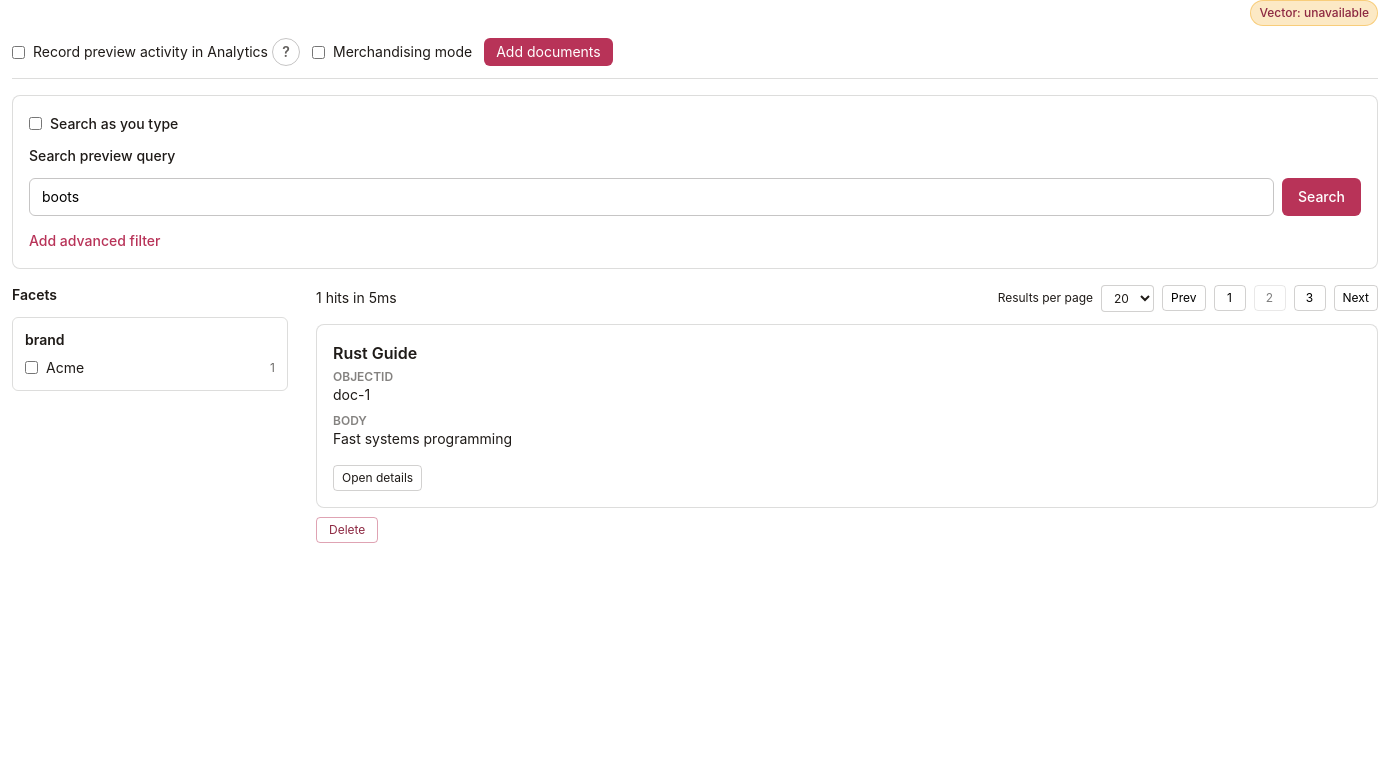
InstantSearch › resyncs unsubmitted draft text to the committed query for non-query searches
Replace the text in the search field labelled "Search preview query" with "draft filter query": [652, 196] box top-left (29, 178), bottom-right (1274, 216)
Click the button "Add advanced filter": [95, 240] box top-left (29, 230), bottom-right (160, 250)
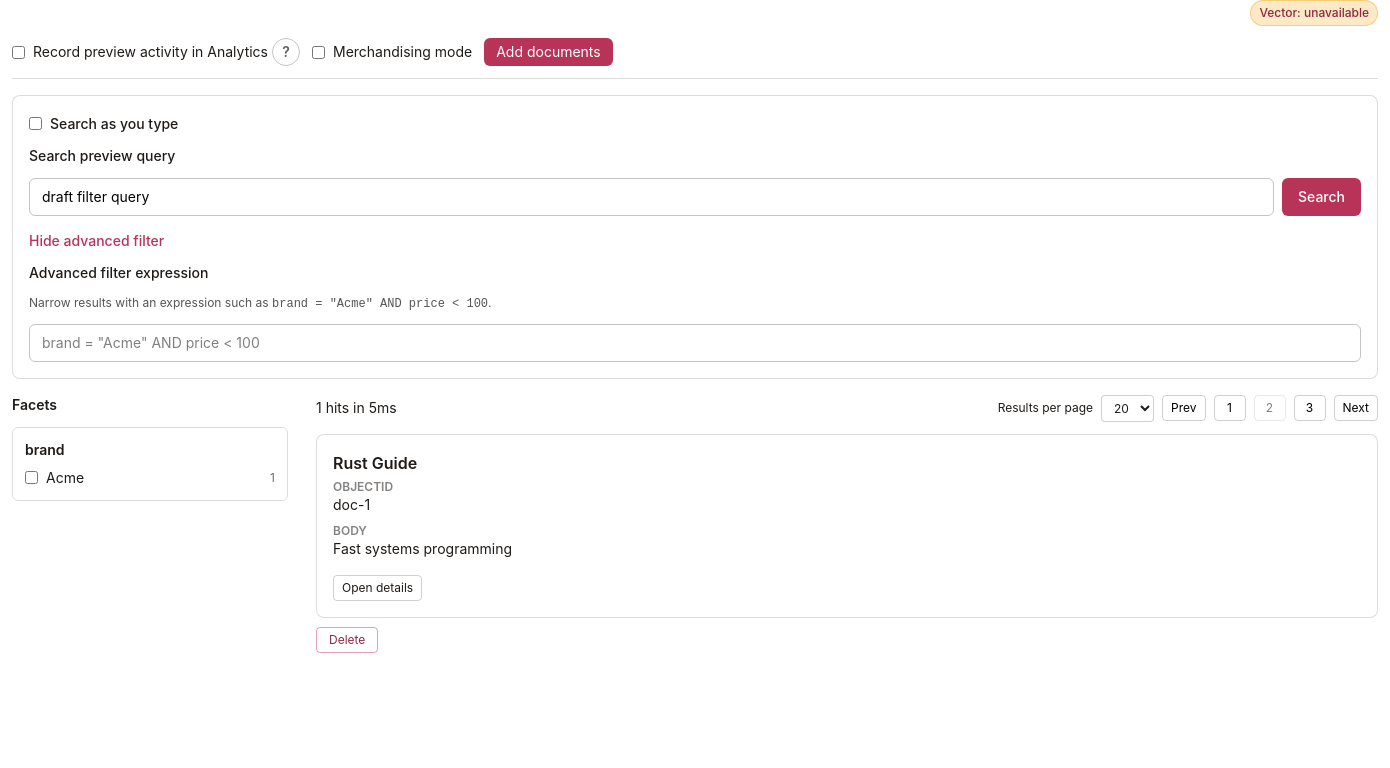
In the field labelled "Advanced filter expression": [695, 342] box top-left (29, 324), bottom-right (1361, 362), type "brand = \"Acme\""
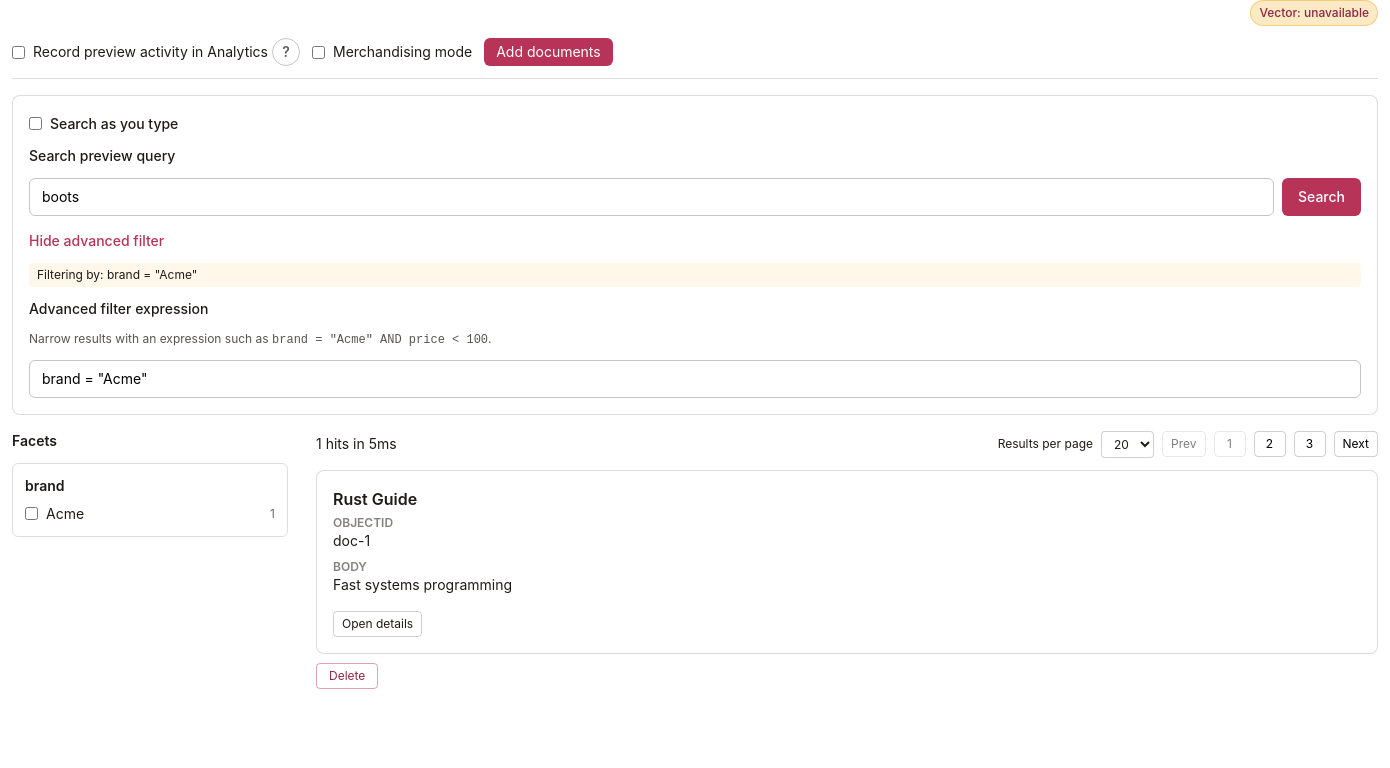
Expected: the search field labelled "Search preview query" holds "boots"
Replace the text in the search field labelled "Search preview query" with "draft facet query": [652, 196] box top-left (29, 178), bottom-right (1274, 216)
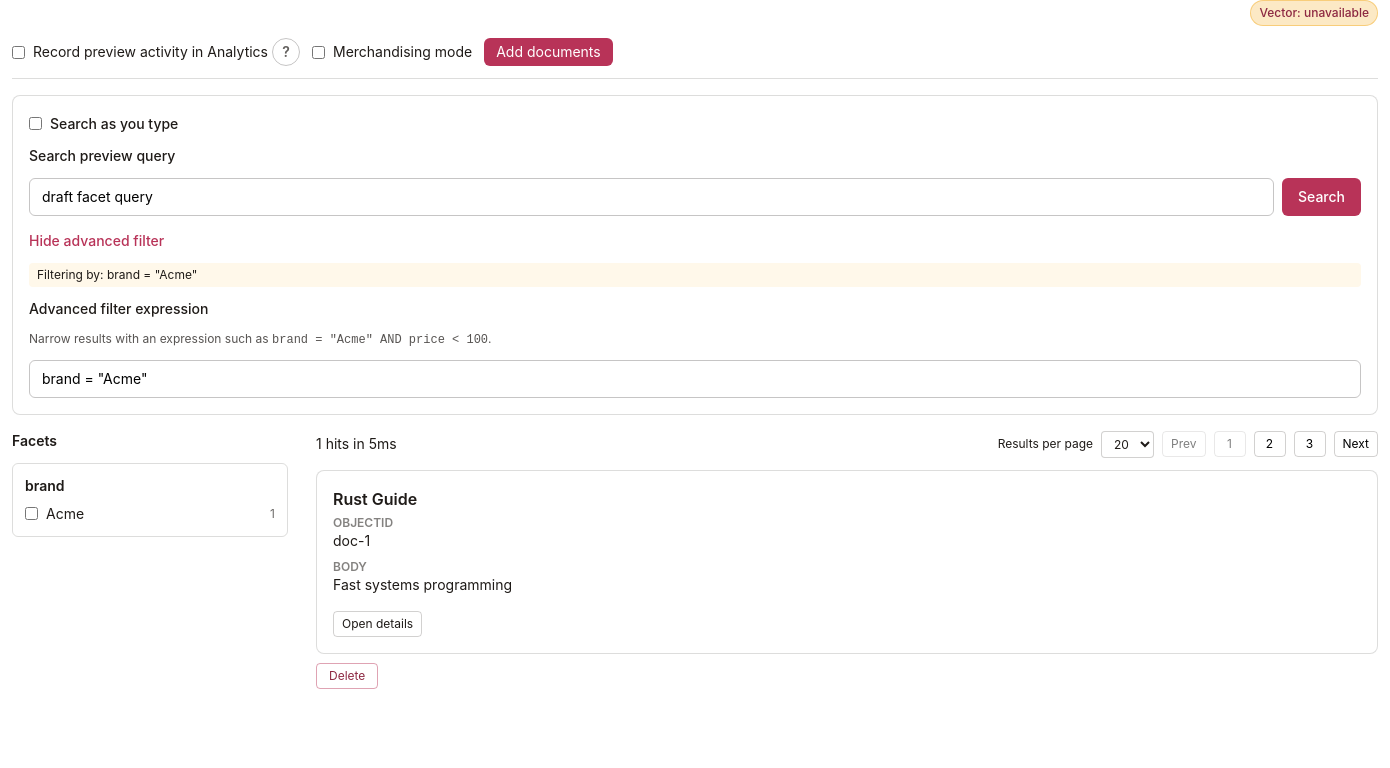
Click the checkbox named "brand:Acme": [32, 514] box top-left (25, 507), bottom-right (38, 520)
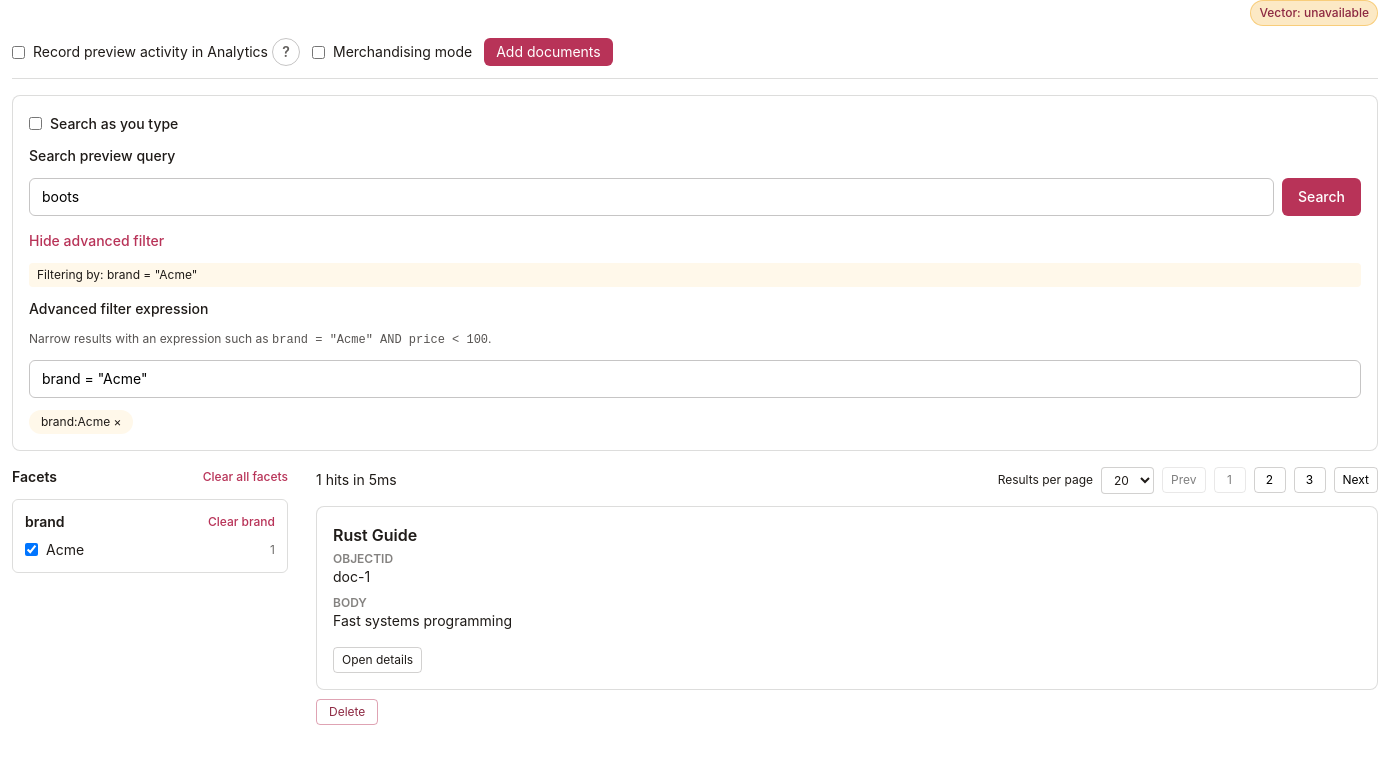
Expected: the search field labelled "Search preview query" holds "boots"
Replace the text in the search field labelled "Search preview query" with "draft page query": [652, 196] box top-left (29, 178), bottom-right (1274, 216)
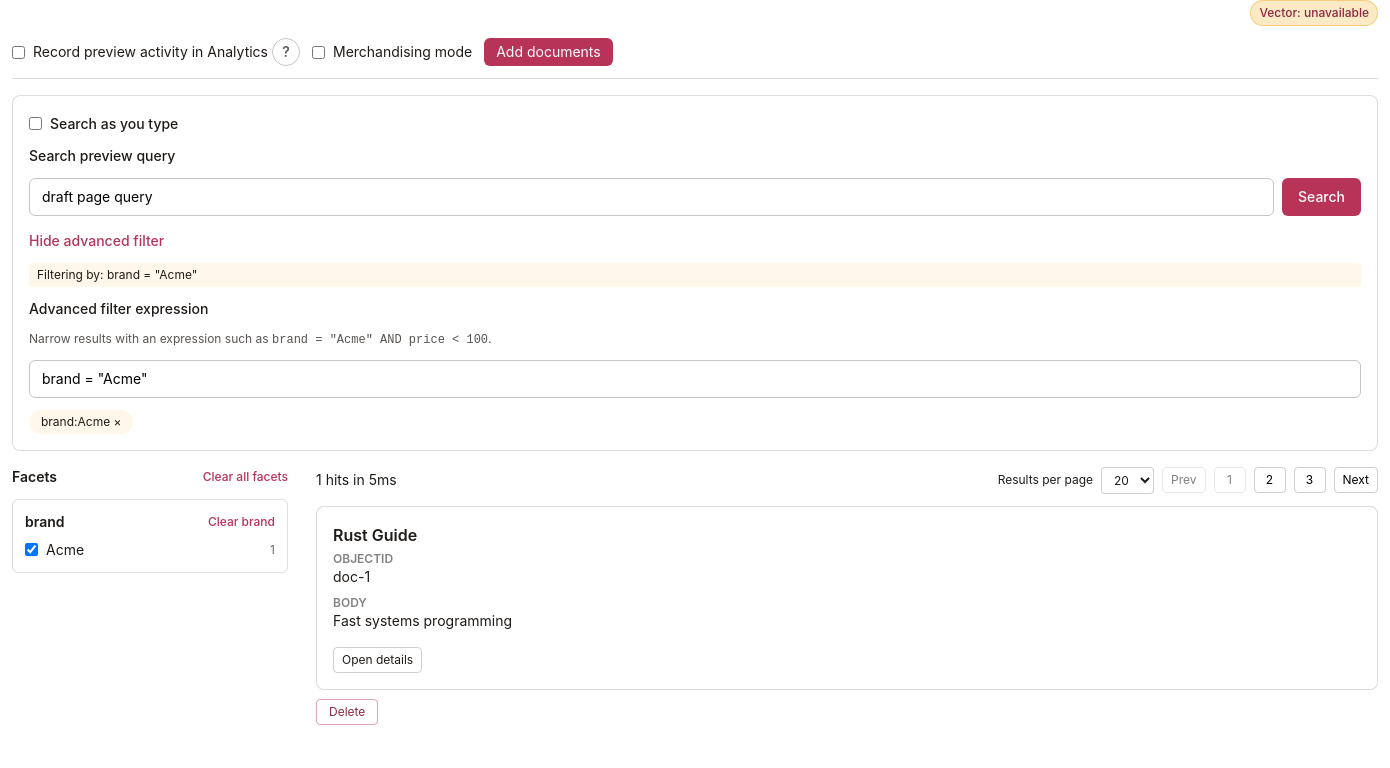
Click the button named "Page 2": [1270, 480] box top-left (1254, 467), bottom-right (1286, 493)
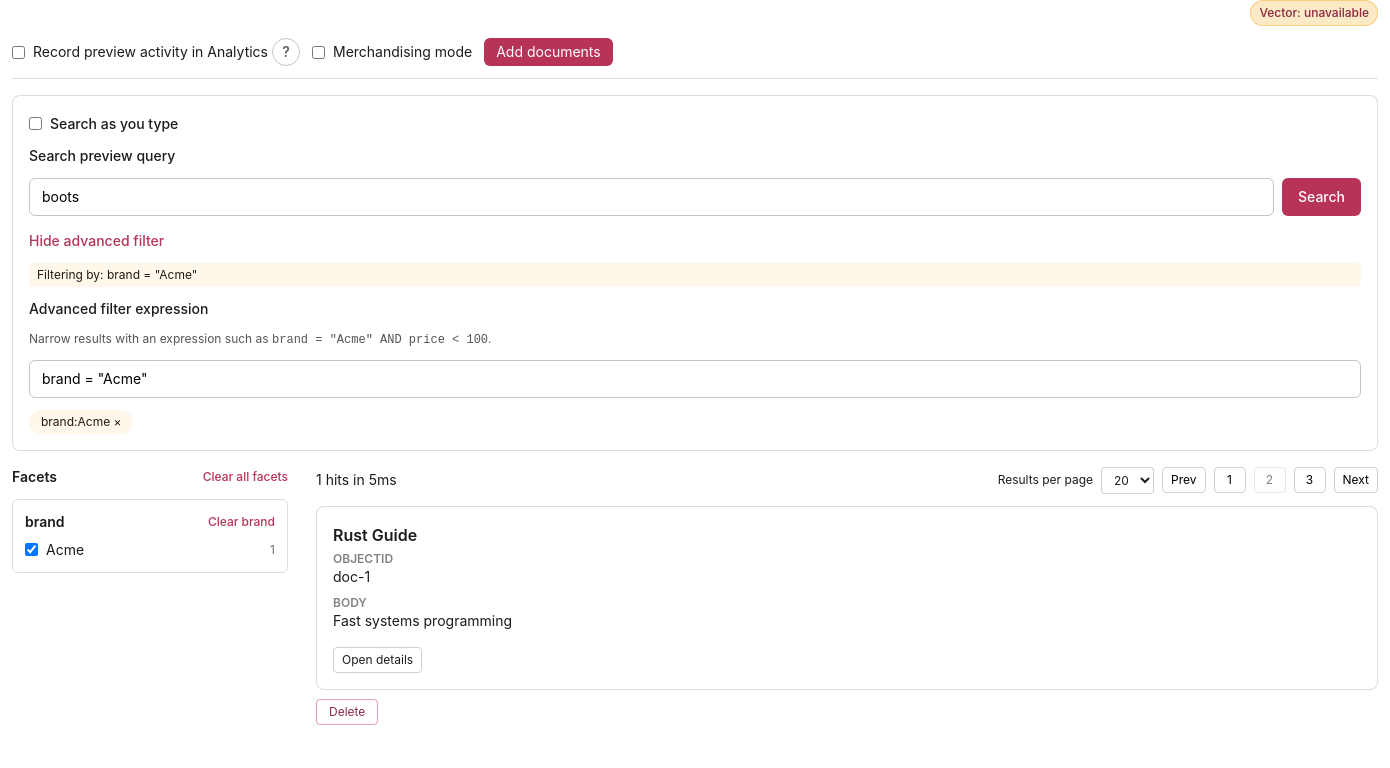
Expected: the search field labelled "Search preview query" holds "boots", top-left (29, 178), bottom-right (1274, 216)
